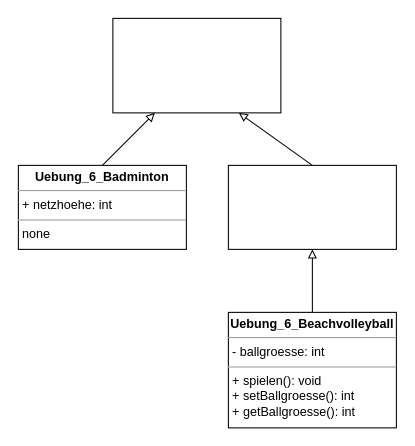
The diagram is 415 pixels wide and 446 high, and some of its shapes have lost their labels. The centre of each missing label's shape, as x and y in pixels:
"Uebung_6_Sportart # name: String + spielen(): void" goes at point 196,65.
"Uebung_6_Volleyball # anzahl_spieler: int + spielen(): void" goes at point 311,206.
